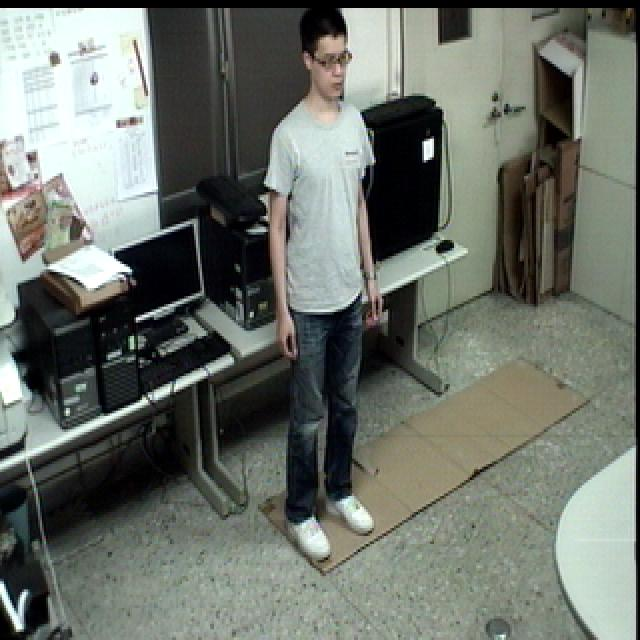stand: (251, 4, 401, 573)
